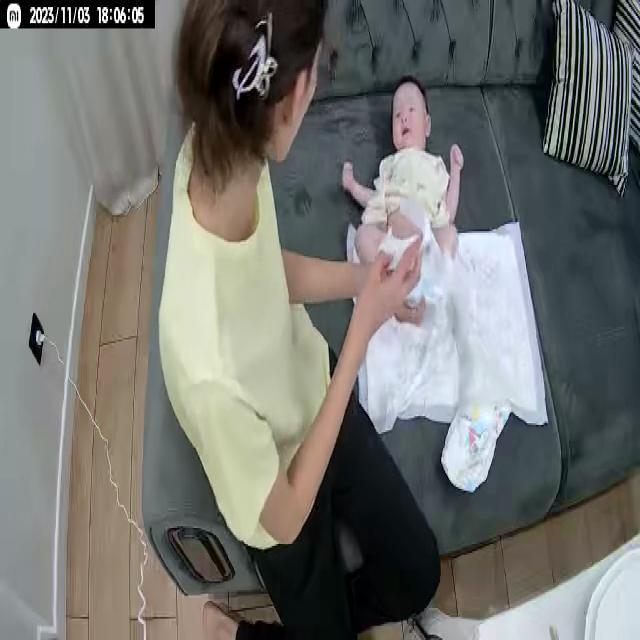baby: (341, 76, 466, 304)
